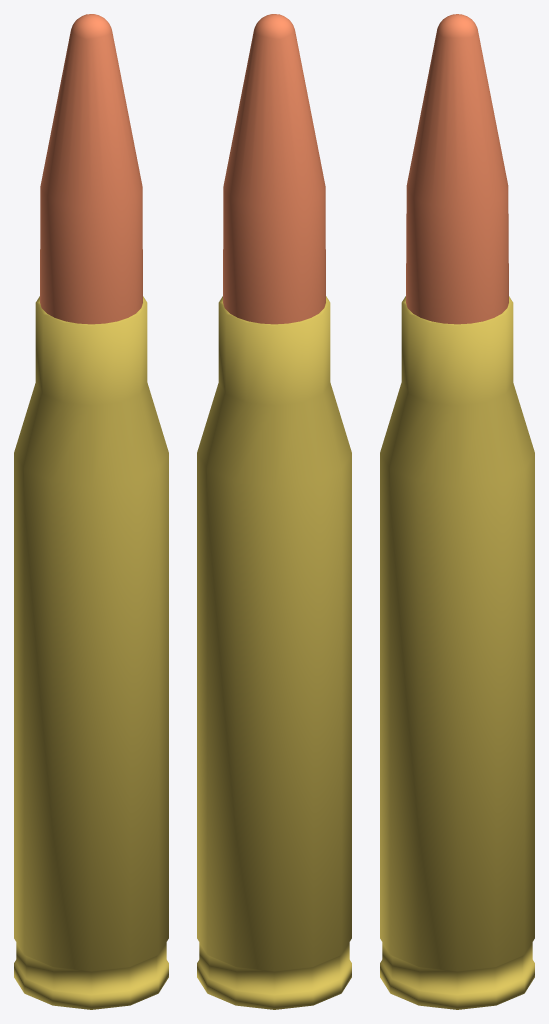
Rendered from BULLET.fbx.
3 renders of one model, left to right at view 1: azimuth 30°, elevation 25°; view 2: azimuth 150°, elevation 25°; view 3: azimuth 270°, elevation 25°, orthographic.
Visible parts, largest first — view 1: Shell, Bullet; view 2: Shell, Bullet; view 3: Shell, Bullet.
Boxes of the visible parts, left/top/right/bottom form: Shell: left=14, top=296, right=168, bottom=1009; Bullet: left=40, top=14, right=142, bottom=324; Shell: left=197, top=296, right=351, bottom=1009; Bullet: left=223, top=14, right=325, bottom=324; Shell: left=380, top=296, right=534, bottom=1009; Bullet: left=406, top=14, right=508, bottom=324.
Size of the model in its own units: 80.44 by 551 by 80.44.
